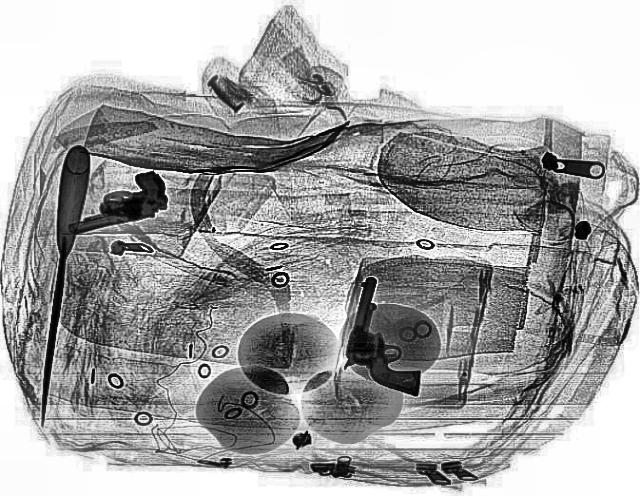Gun: (330, 274, 448, 396), (50, 168, 176, 234)
Knife: (26, 144, 90, 429)
